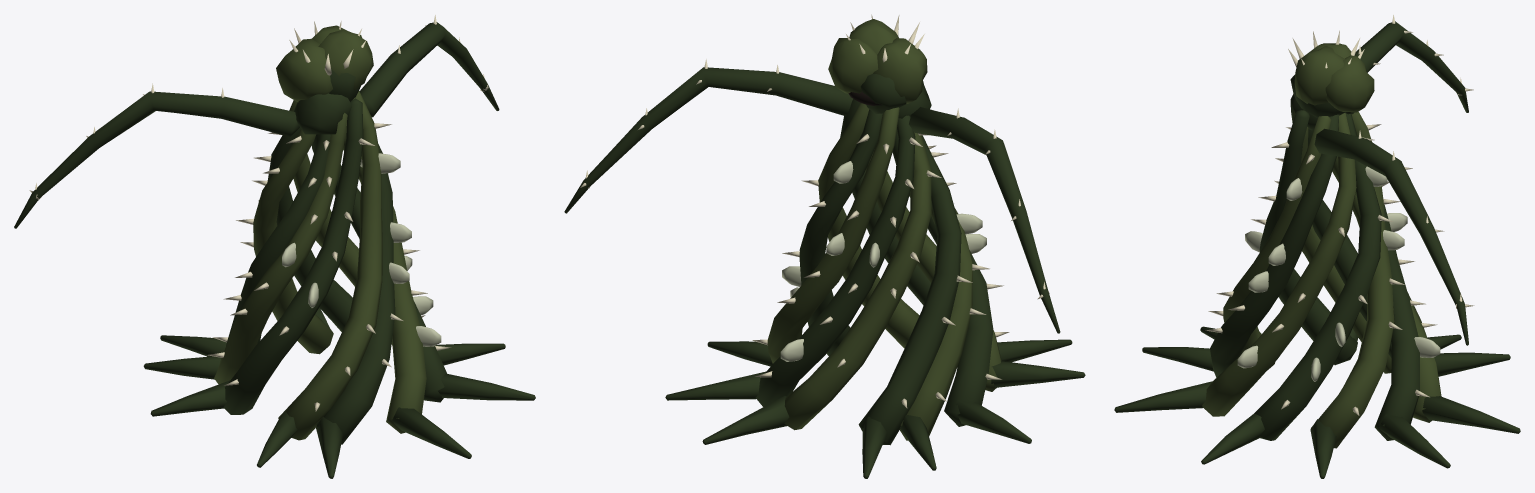
The model's file is vine_horror.glb.
The picture shows the model from 3 angles, left to right: view 1: azimuth 30°, elevation 25°; view 2: azimuth 150°, elevation 25°; view 3: azimuth 270°, elevation 25°; orthographic projection. The views are drawn at different scales.
Visible parts, largest first — view 1: Body, lash_mesh_l, lash_mesh_r; view 2: Body, lash_mesh_r, lash_mesh_l; view 3: Body, lash_mesh_r, lash_mesh_l.
Boxes of the visible parts, x1,y1,x2,y2 form: Body: (143,21,535,478); lash_mesh_l: (14,83,299,228); lash_mesh_r: (359,15,499,117); Body: (665,14,1085,478); lash_mesh_r: (564,59,852,213); lash_mesh_l: (909,107,1060,333); Body: (1114,30,1520,478); lash_mesh_r: (1314,128,1474,345); lash_mesh_l: (1354,15,1473,112).
Size of the model in its own units: 4.12 by 2.95 by 3.02.
